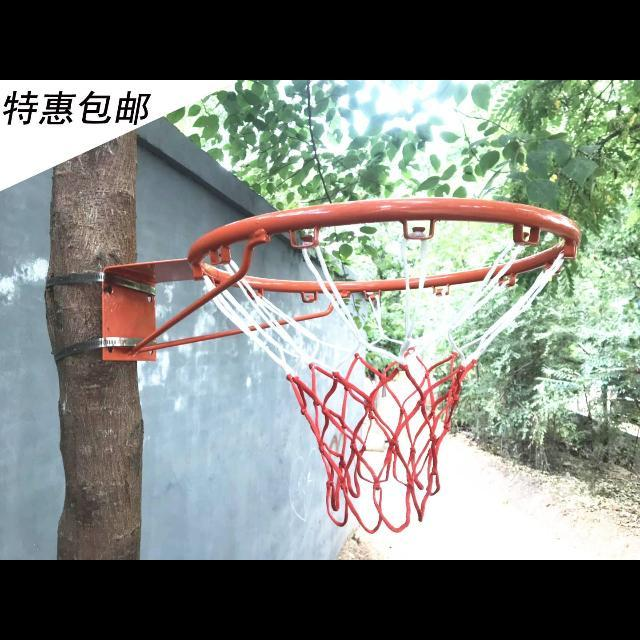rim: (188, 198, 582, 534)
